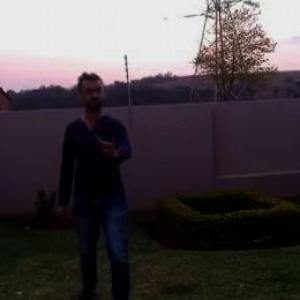takeoff-hand: (92, 125, 125, 158)
